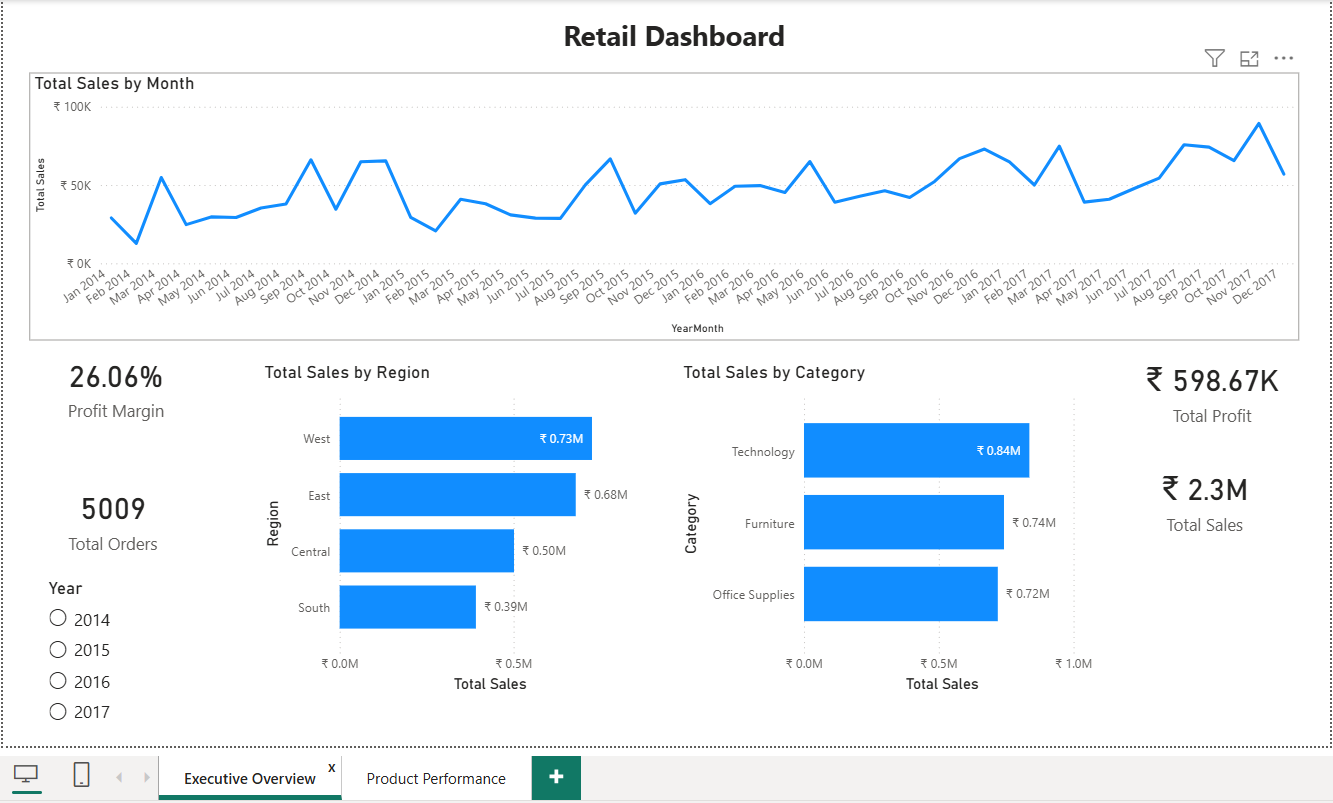

The dashboard page shown, as its layout file describes it:
{"tool":"powerbi","page":{"name":"Executive Overview","canvas":[1280,720],"ordinal":0},"visuals":[{"type":"card","fields":{"Values":["Table1.Total Sales"]},"box":[1068.9,433.1,182.2,97.7],"z":0},{"type":"card","fields":{"Values":["Table1.Total Orders"]},"box":[10.9,451.2,190.6,97.7],"z":1000},{"type":"card","fields":{"Values":["Table1.Total Profit"]},"box":[1083.4,319.7,167.7,113.4],"z":2000},{"type":"card","fields":{"Values":["Table1.Profit Margin"]},"box":[25.3,319.7,167.7,105],"z":3000},{"type":"lineChart","title":"Total Sales by Month","fields":{"Category":["Table1.YearMonth"],"Y":["Table1.Total Sales"]},"box":[25.3,70,1225.7,258.2],"z":4000},{"type":"textbox","box":[535.7,10.9,253.4,49.5],"z":5000},{"type":"listSlicer","fields":{"Values":["Table1.Order Date.Variation.Date Hierarchy.Year"]},"box":[38.6,557.4,133.9,150.8],"z":6000},{"type":"clusteredBarChart","fields":{"Category":["Table1.Category"],"Y":["Table1.Total Sales"]},"box":[651.5,348.7,412.6,324.5],"z":7000},{"type":"clusteredBarChart","fields":{"Category":["Table1.Region"],"Y":["Table1.Total Sales"]},"box":[247.3,348.7,392.1,324.5],"z":8000}]}

Visuals, with their boxes on the page's 1280x720 design canvas (x1, y1, x2, y2). These are canvas units, not pixel positions in the 1333x803 screenshot, which may show the page scaled, cropped or inside an application window:
card - Table1.Total Sales: 1069/433/1251/531
card - Table1.Total Orders: 11/451/202/549
card - Table1.Total Profit: 1083/320/1251/433
card - Table1.Profit Margin: 25/320/193/425
"Total Sales by Month" lineChart: 25/70/1251/328
textbox: 536/11/789/60
listSlicer - Table1.Order Date.Variation.Date Hierarchy.Year: 39/557/172/708
clusteredBarChart - Table1.Category x Table1.Total Sales: 652/349/1064/673
clusteredBarChart - Table1.Region x Table1.Total Sales: 247/349/639/673
